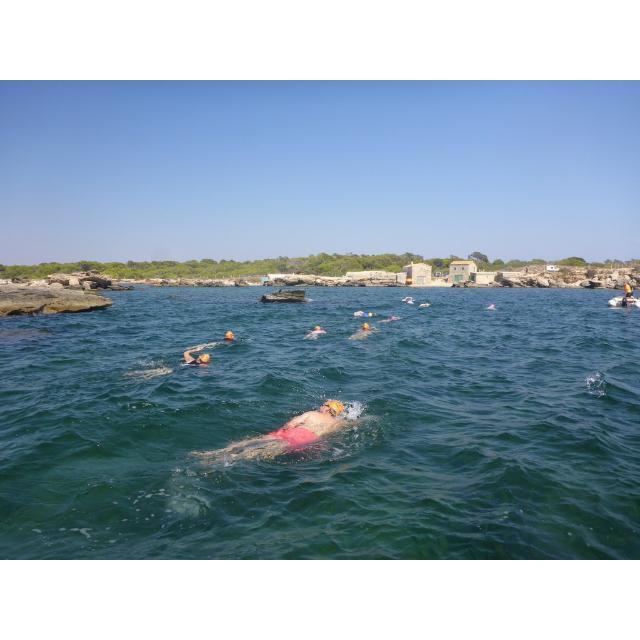human: (187, 394, 368, 476), (150, 342, 226, 382), (352, 322, 373, 341), (227, 327, 249, 343), (306, 325, 327, 341)
